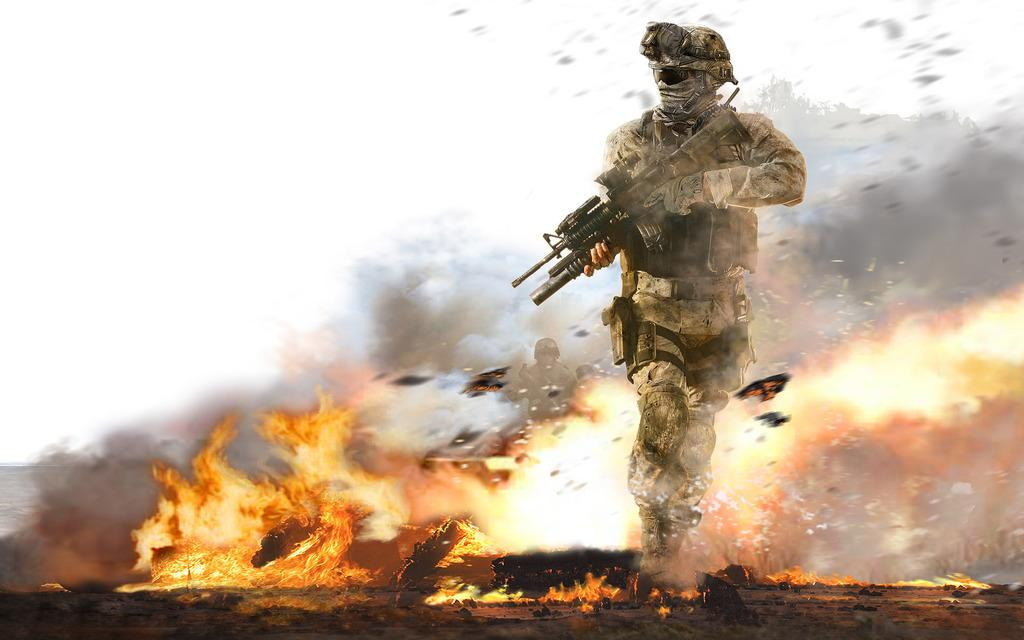Rifle: (531, 109, 722, 327)
